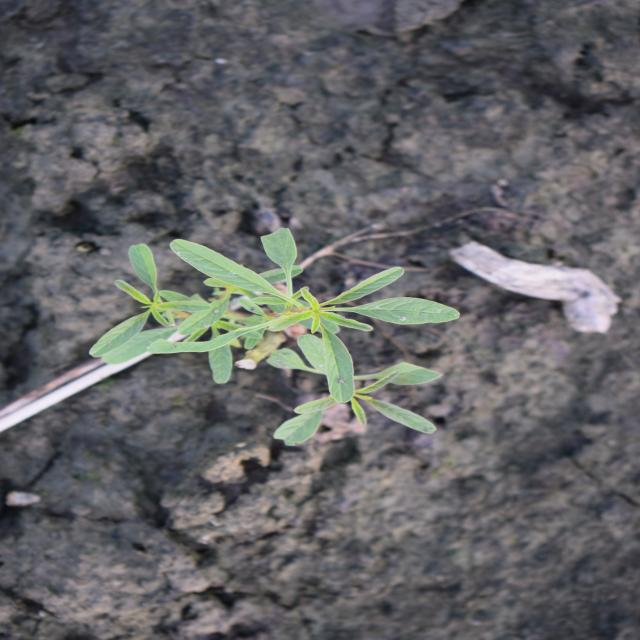Waterhemp: (86, 226, 463, 448)
